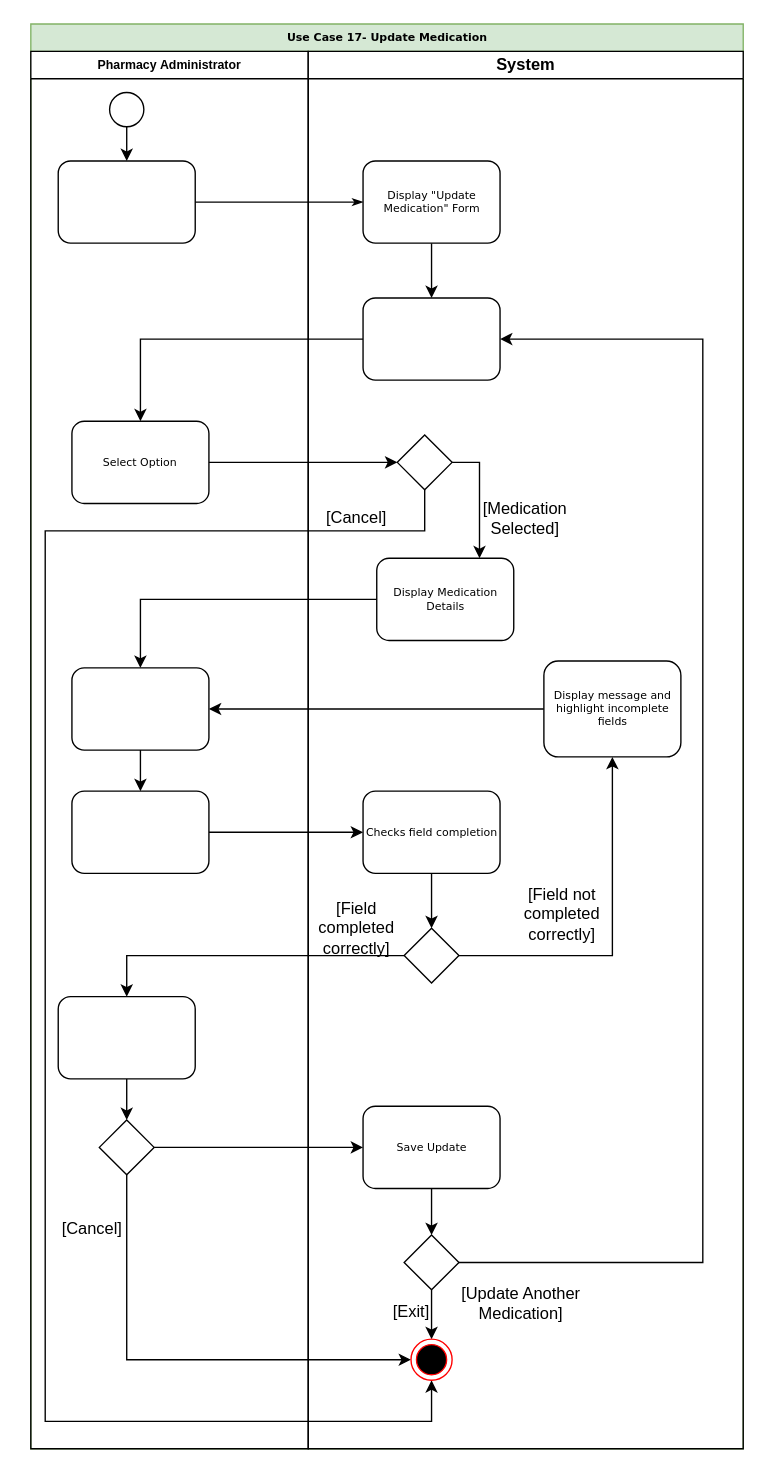
This 767x1473 diagram has some shape labels left out. Here are the shapes that lost their labels. From the top down, the centre of each, then its label:
pixel 126 201: Select "Update Medication" Form
pixel 431 338: Display List of Medications
pixel 140 708: Modify Medication Details
pixel 140 831: Click on "Update Medication" button
pixel 126 1037: Confirm Update
